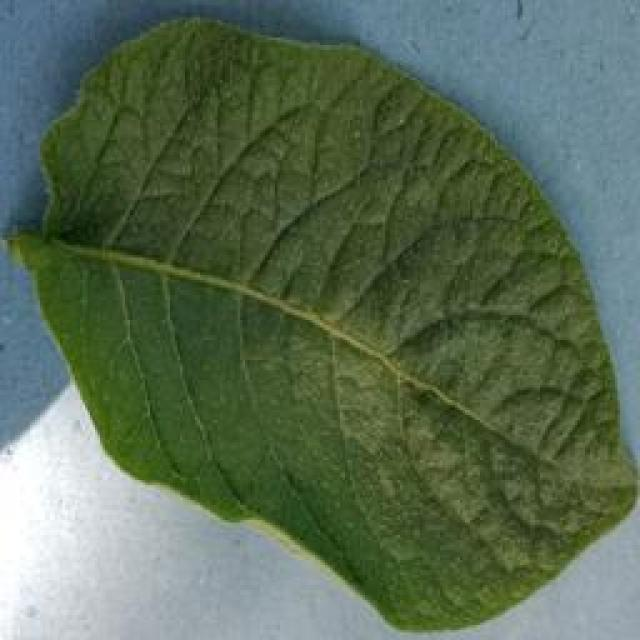Potato_Healthy: (9, 16, 626, 630)
